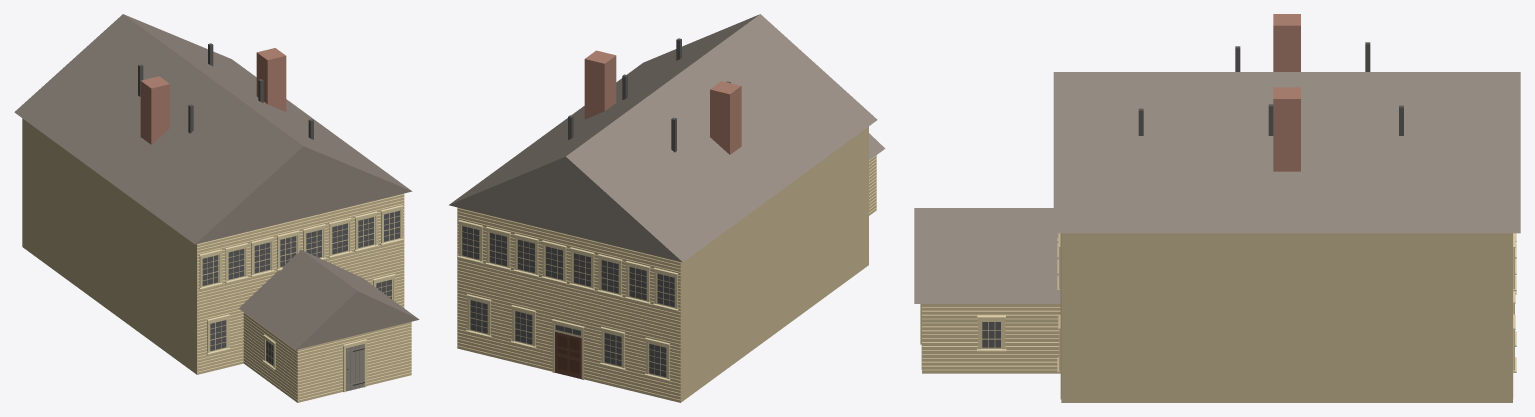
The model's file is recon_1835_blk_washington_clark_h3_11__inferred_1835.glb.
The picture shows the model from 3 angles, left to right: view 1: azimuth 30°, elevation 25°; view 2: azimuth 150°, elevation 25°; view 3: azimuth 270°, elevation 25°; orthographic projection. The views are drawn at different scales.
Visible parts, largest first — view 1: recon_1835_blk_washington_clark_h3_11__inferred_1835; view 2: recon_1835_blk_washington_clark_h3_11__inferred_1835; view 3: recon_1835_blk_washington_clark_h3_11__inferred_1835.
Part boxes in pixels (bbox=[...]): recon_1835_blk_washington_clark_h3_11__inferred_1835: bbox=[14, 14, 419, 402]; recon_1835_blk_washington_clark_h3_11__inferred_1835: bbox=[449, 14, 885, 402]; recon_1835_blk_washington_clark_h3_11__inferred_1835: bbox=[914, 14, 1520, 402].
Bounding box in the file's own units: 10.5 × 10.03 × 19.6.
